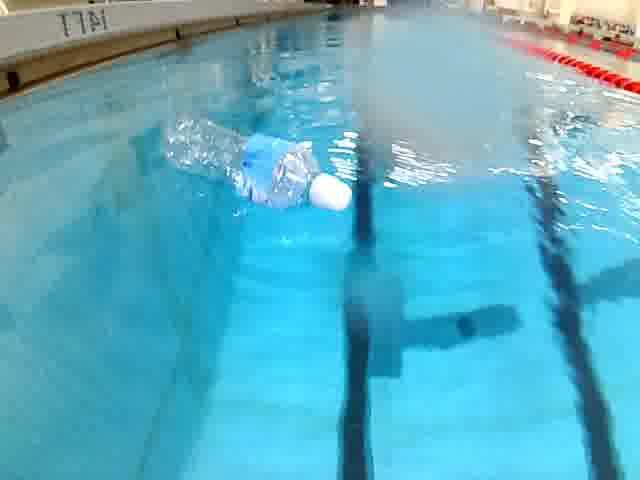Bottle: (157, 111, 357, 222)
